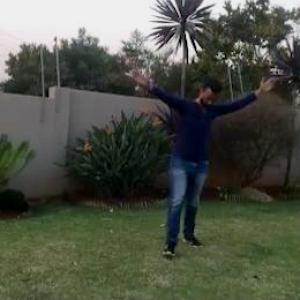takeoff: (128, 58, 270, 263)
